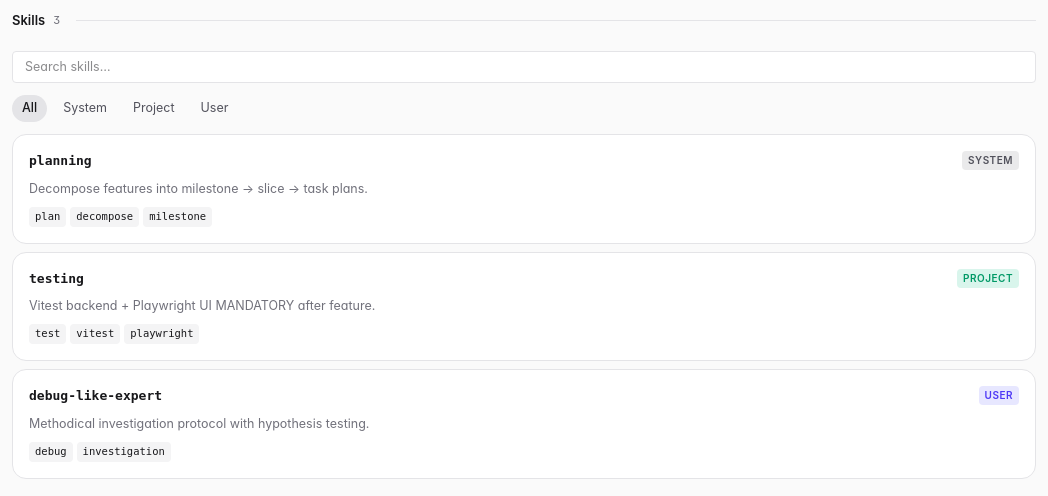
SkillsPane — uncontrolled search filtering › clearing the input restores the full list
Type "vitest" into the search field labelled "Search skills…" at (524, 67), box [12,50,1036,83]
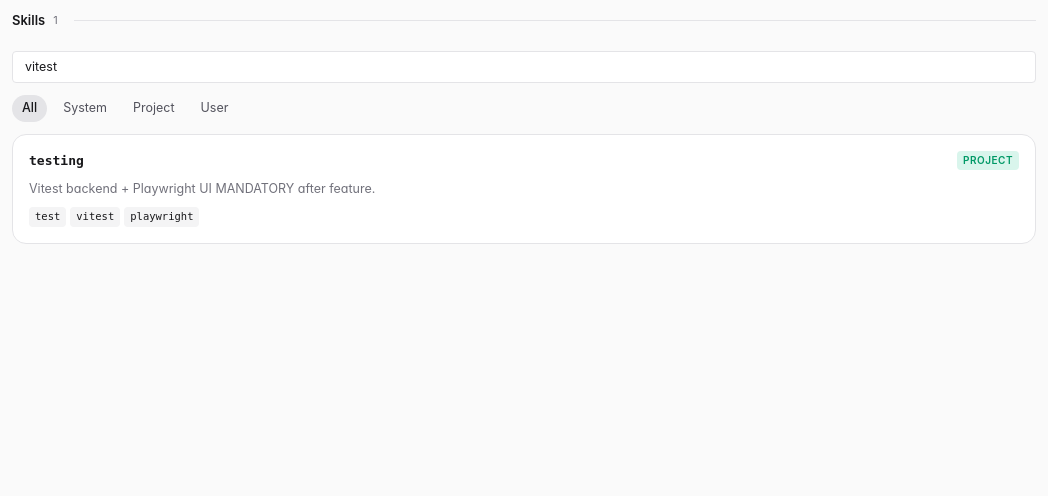
Check: the number of elements with test id "skill-row" is 1, box [29,151,1019,227]
Clear the search field named "Search skills" at (524, 67), box [12,50,1036,83]
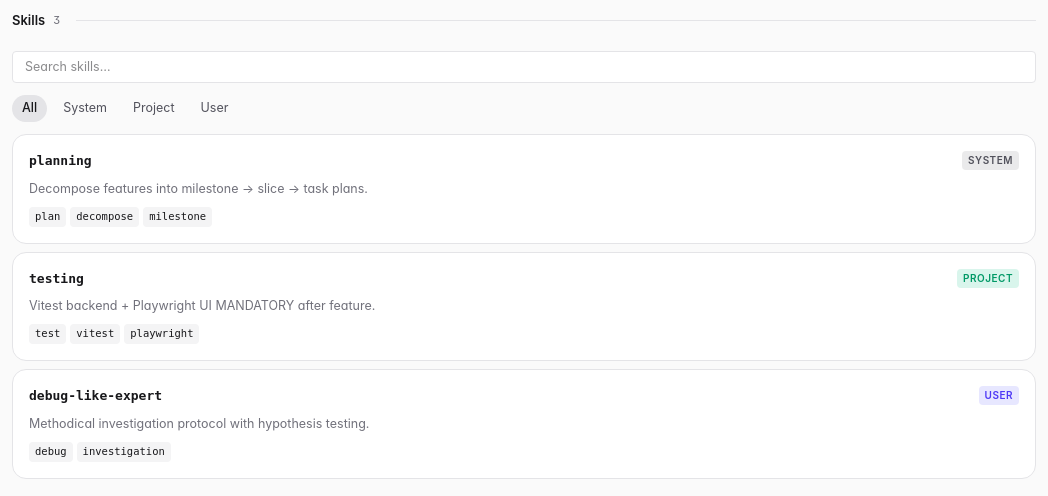
Check: the number of elements with test id "skill-row" is 3, box [29,151,1019,227]; [29,269,1019,344]; [29,386,1019,462]
